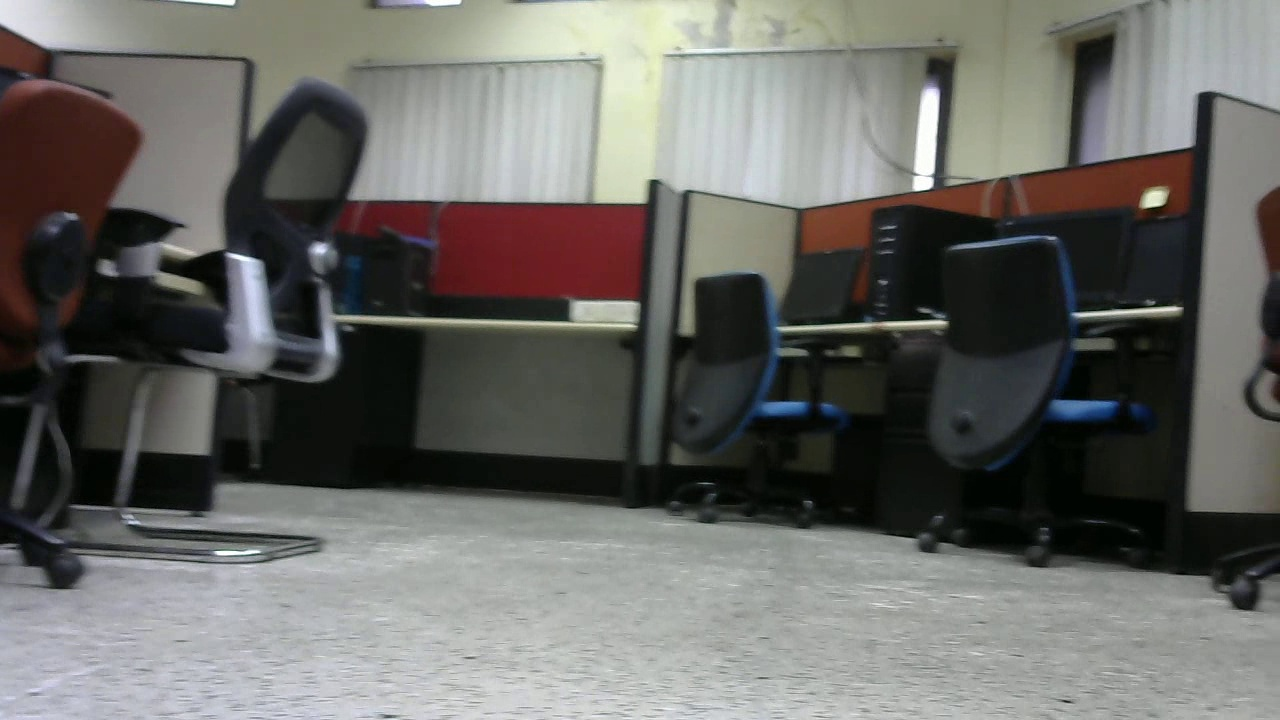chair: (106, 71, 371, 573), (899, 224, 1165, 575), (662, 262, 855, 530)
